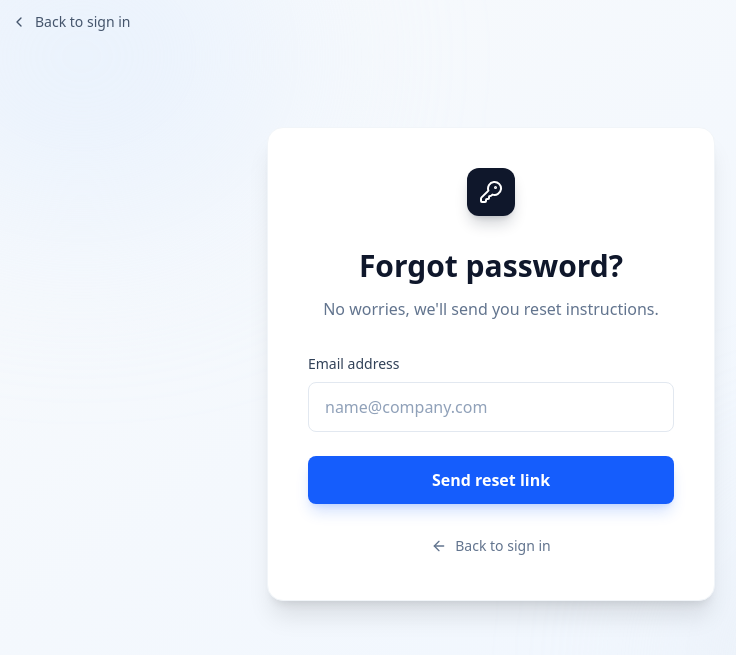
Test: ForgotPasswordPage › shows validation error for empty email
The image size is (736, 655).
Click the button "Send reset link".
click(491, 480)  # box [308,456,674,504]
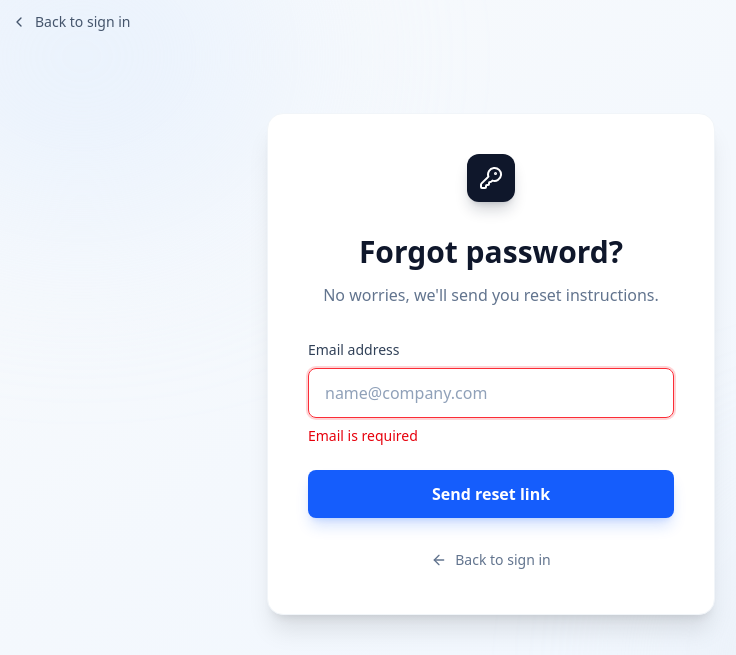
Expected: the text "Email is required" is shown, [308,426,418,445]
